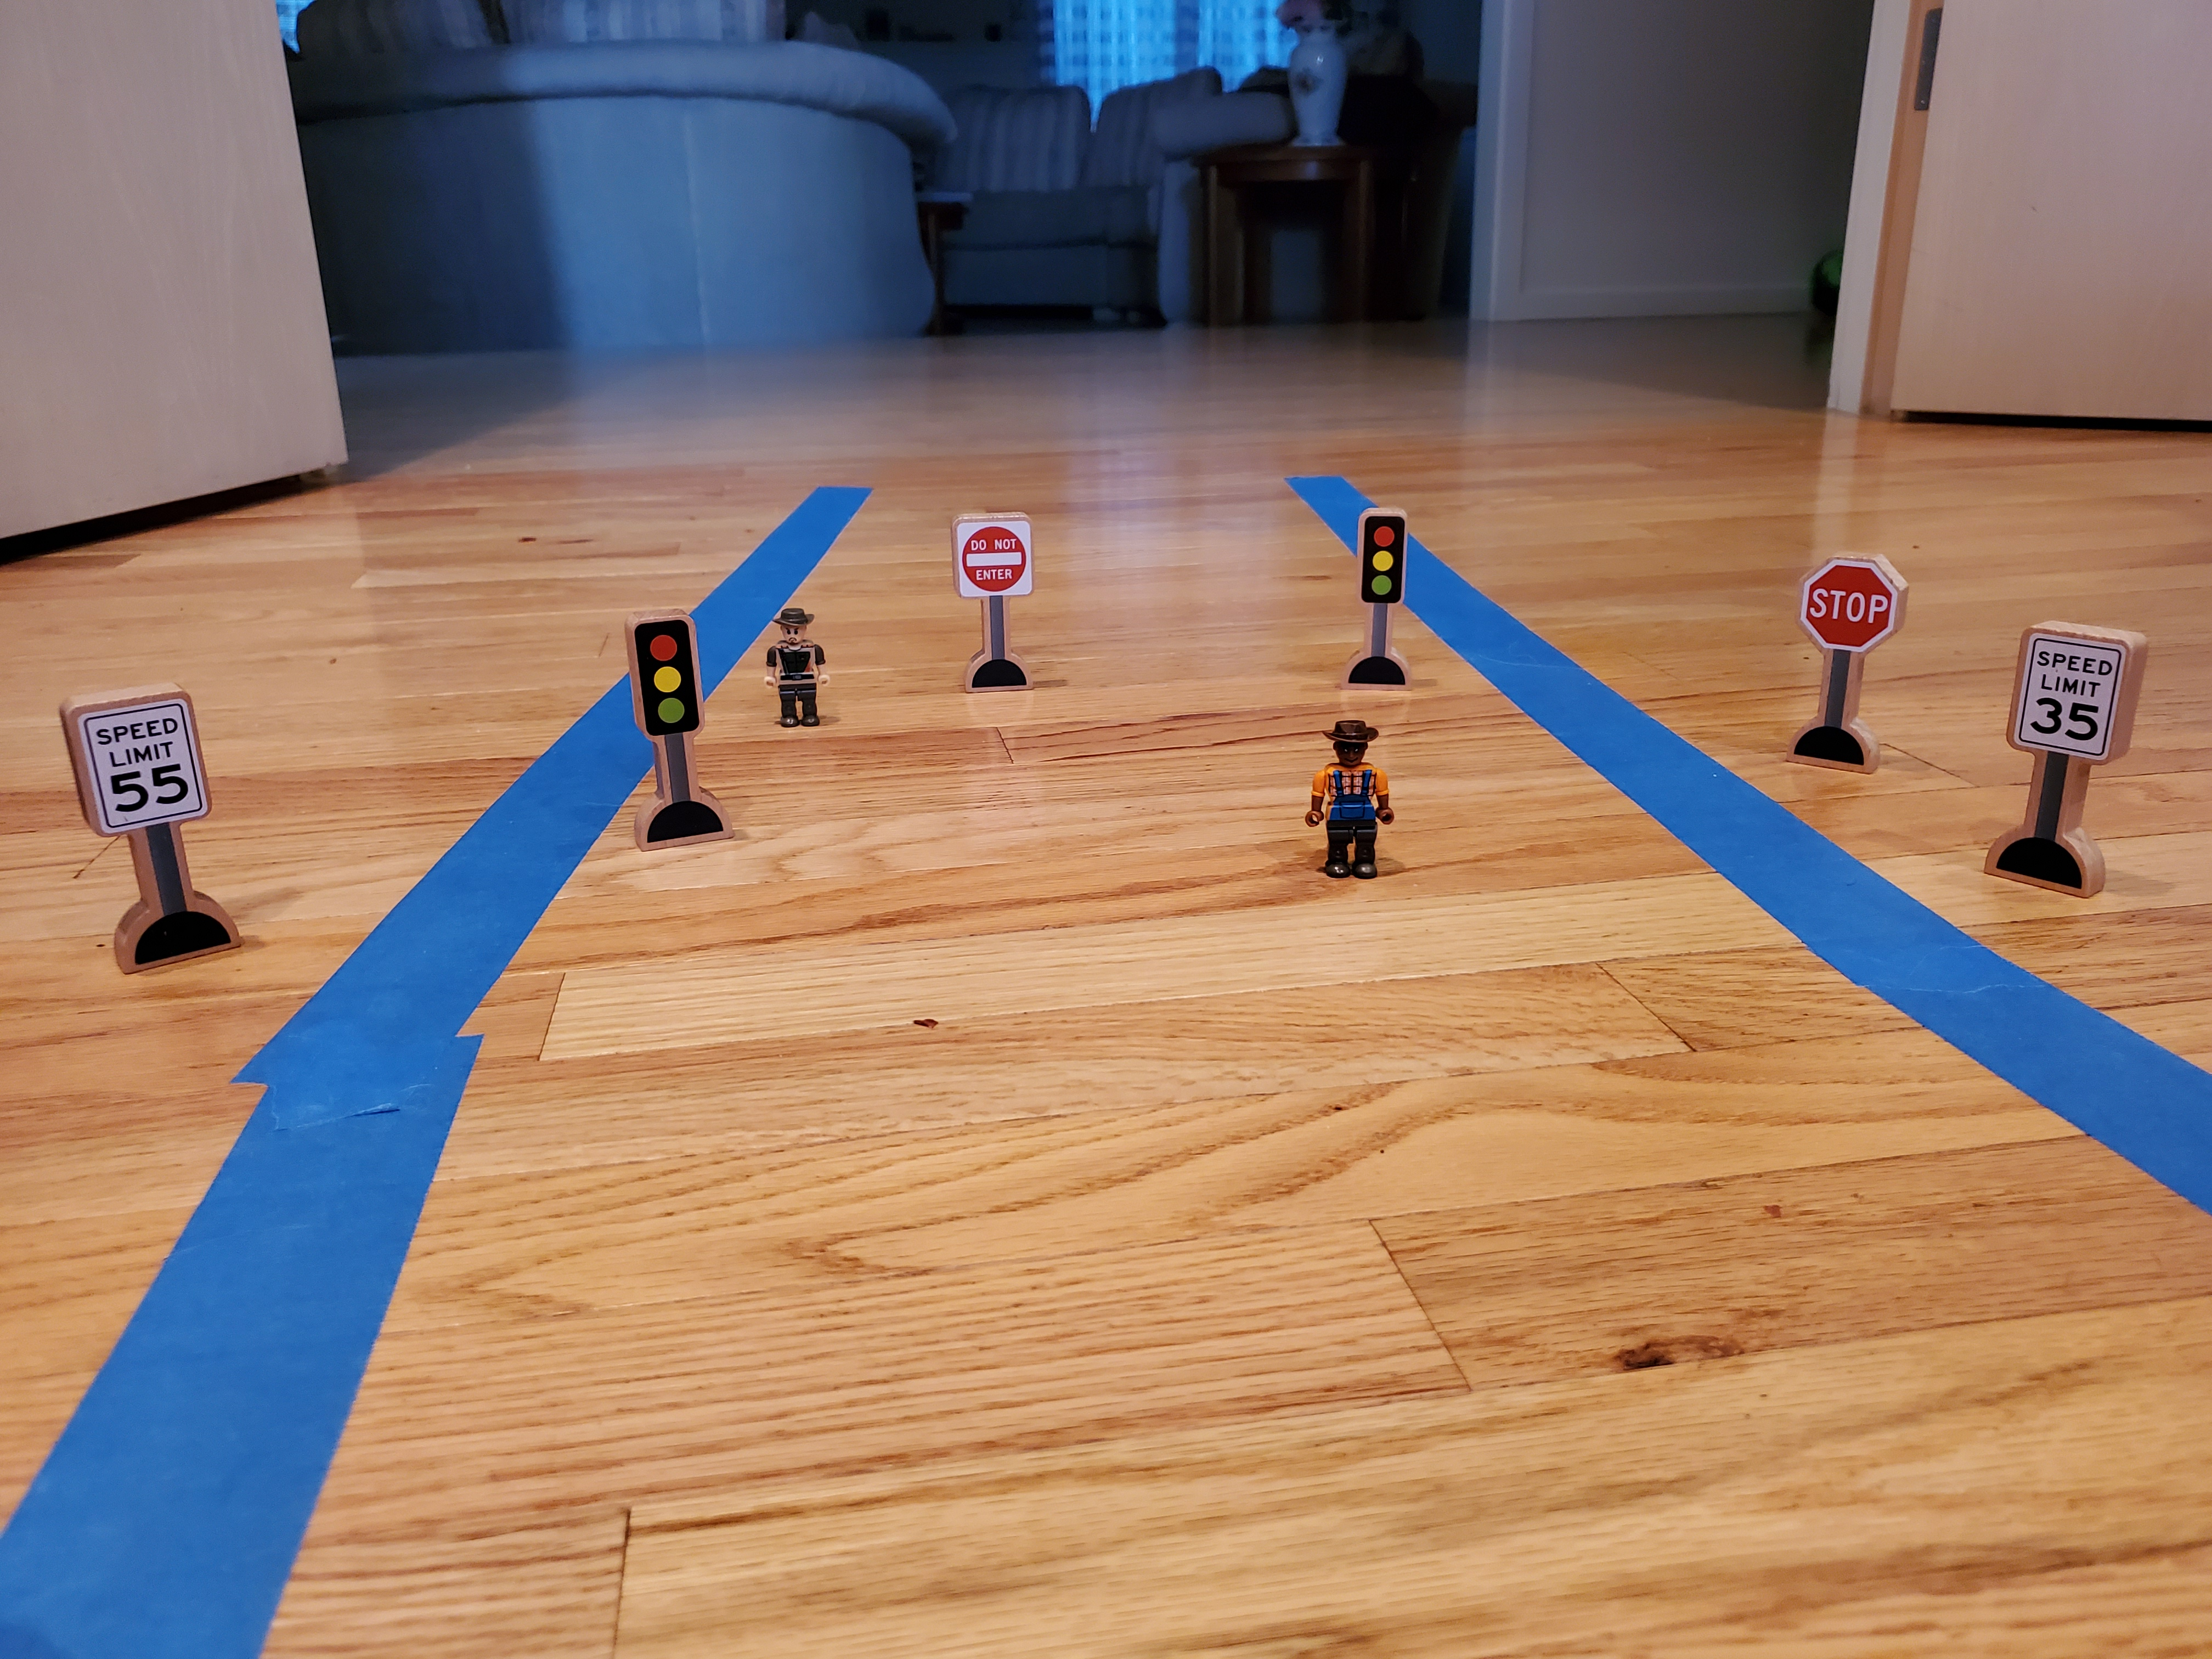Do Not Enter: (945, 509, 1044, 613)
Red Traffic Light: (612, 608, 719, 740), (1342, 499, 1420, 622)
Speed Limit 35: (2001, 616, 2150, 789)
Speed Limit 55: (57, 699, 230, 838)
Stop Sign: (1785, 540, 1925, 677)
person: (1305, 715, 1403, 889), (757, 601, 838, 732)
